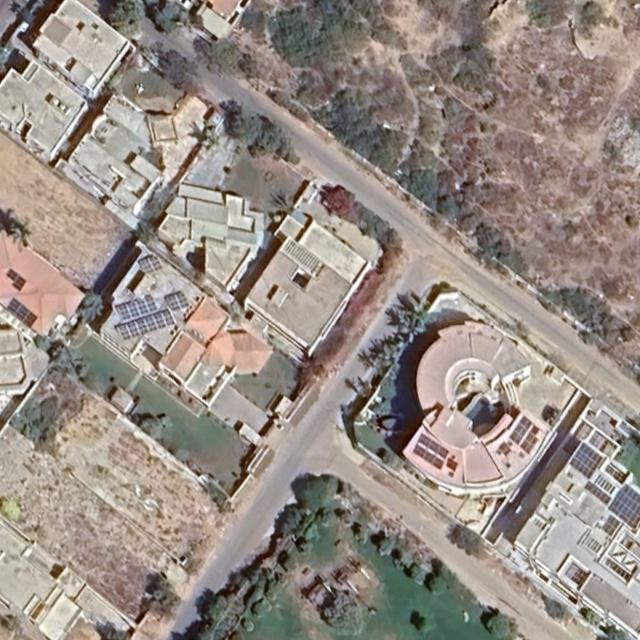solar panel: (116, 304, 179, 343), (606, 484, 640, 530), (568, 442, 606, 480), (112, 294, 156, 323), (4, 298, 38, 329), (415, 432, 451, 461), (412, 443, 446, 471), (507, 413, 533, 446), (518, 425, 545, 456), (163, 287, 190, 314), (137, 251, 165, 277), (584, 481, 612, 506), (4, 268, 26, 290), (600, 515, 621, 536), (445, 458, 460, 473), (499, 442, 513, 455)
